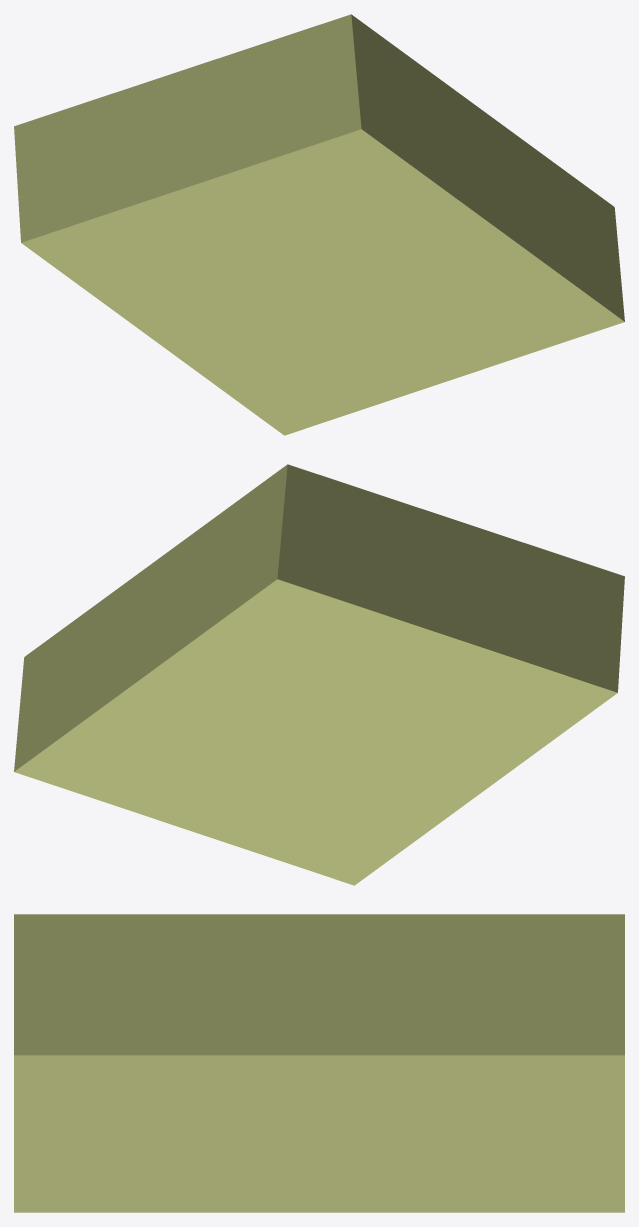
3 views of the same model, one above another, from view 1: azimuth 30°, elevation 25°; view 2: azimuth 150°, elevation 25°; view 3: azimuth 270°, elevation 25° (orthographic). The views are drawn at different scales.
Parts seen in each view (by area): view 1: 0_2_3_3_3_1_0_2_3_1_3_3; view 2: 0_2_3_3_3_1_0_2_3_1_3_3; view 3: 0_2_3_3_3_1_0_2_3_1_3_3.
Boxes of the visible parts, box(x1,y1,x2,y2) form: 0_2_3_3_3_1_0_2_3_1_3_3: box(14, 14, 624, 435); 0_2_3_3_3_1_0_2_3_1_3_3: box(14, 464, 624, 885); 0_2_3_3_3_1_0_2_3_1_3_3: box(14, 914, 624, 1212).
Size of the model in its own units: 4.57 by 1.86 by 6.
